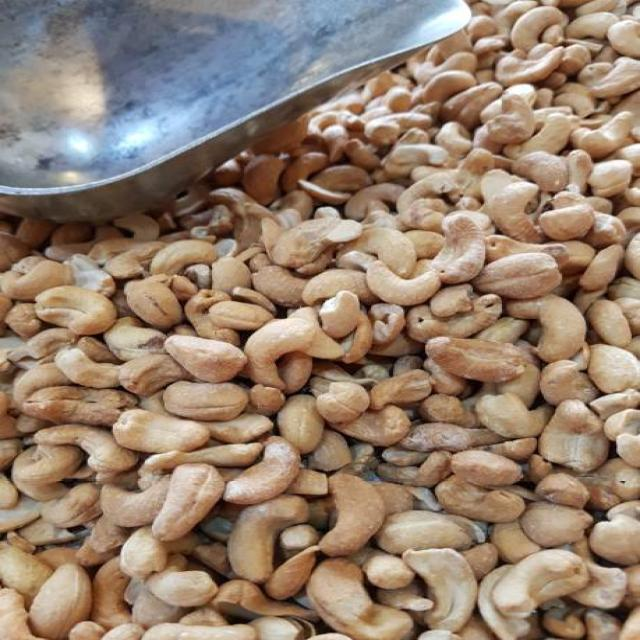Cashew: (489, 538, 582, 611), (236, 314, 322, 384), (27, 560, 100, 638), (350, 256, 453, 307), (420, 552, 481, 638), (28, 277, 123, 331), (98, 405, 204, 453), (428, 333, 528, 382), (474, 244, 560, 299), (543, 404, 610, 474), (240, 434, 306, 499), (160, 458, 214, 536), (275, 218, 345, 277), (325, 466, 370, 554), (152, 372, 238, 418), (142, 230, 221, 275), (441, 478, 522, 520), (378, 511, 468, 548), (128, 276, 186, 331), (477, 393, 544, 440), (167, 328, 238, 372), (574, 239, 630, 294), (539, 297, 590, 357), (489, 178, 533, 244), (589, 343, 640, 396), (481, 96, 544, 138), (446, 448, 508, 483)
